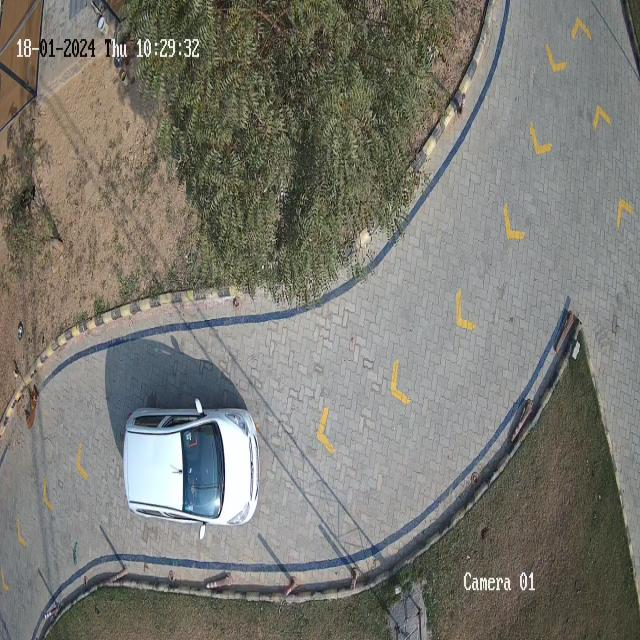car: (123, 408, 260, 529)
